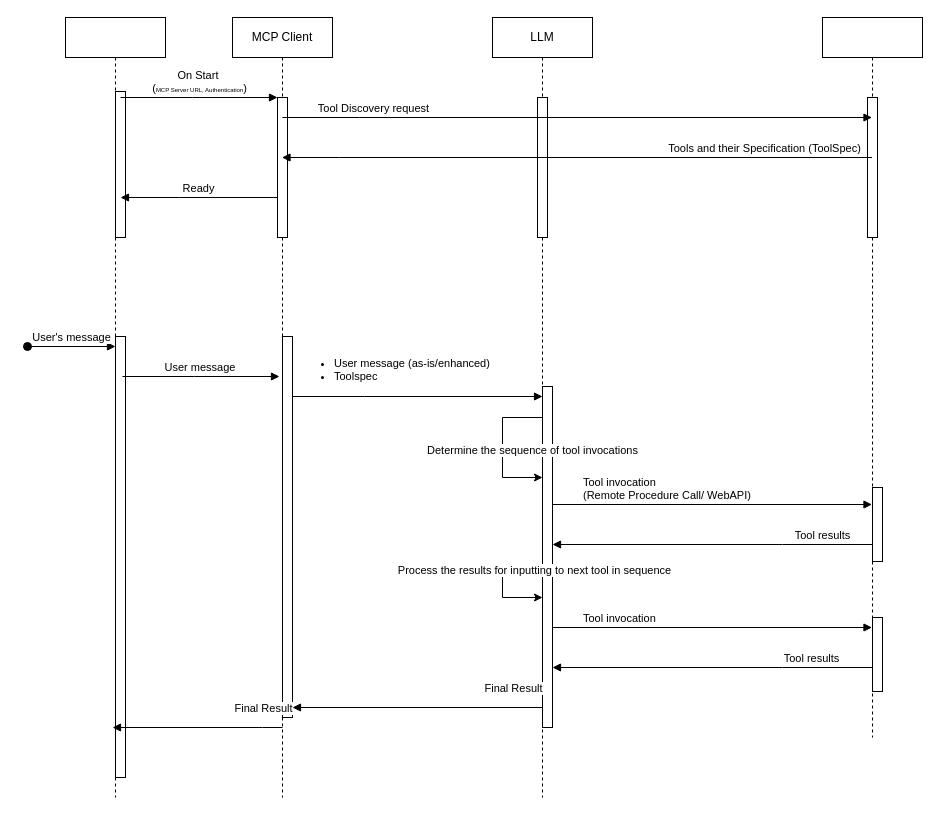
Some shapes in this 940 by 815 pixel diagram are drawn without their labels. Here are the shapes that lost their labels. From the top down, the box of each, then its label:
(822, 16, 922, 738): MCP Servers
(64, 16, 166, 798): Host Application
